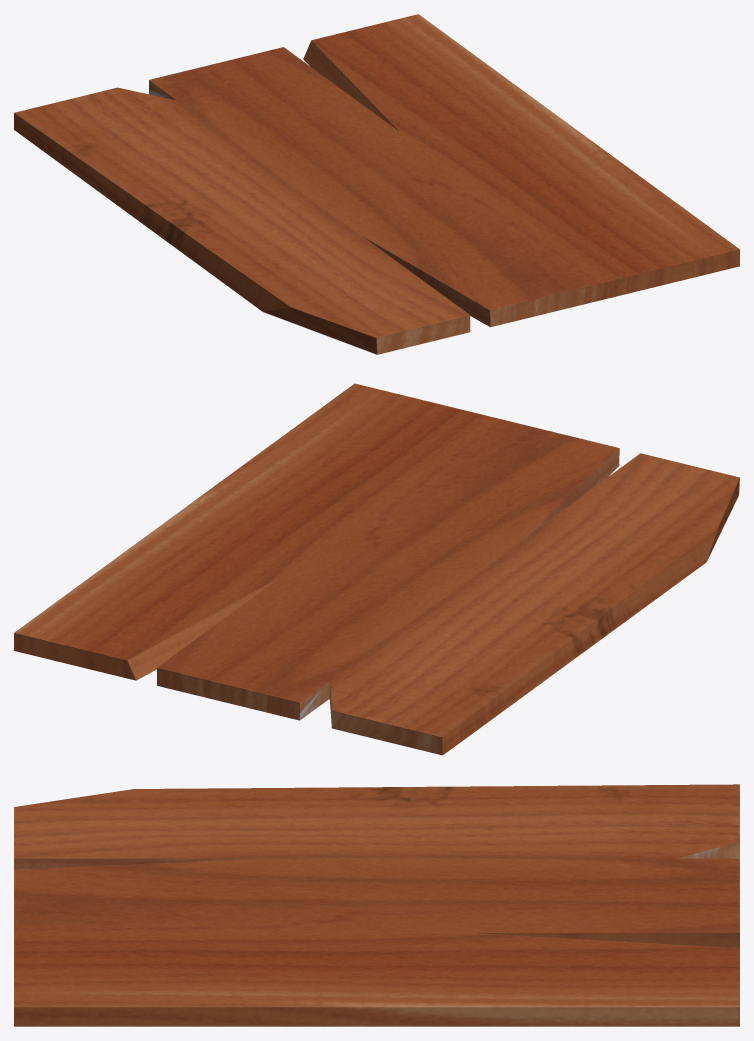
The model's file is NNJ0510013.fbx.
3 renders of one model, top to bottom at view 1: azimuth 30°, elevation 25°; view 2: azimuth 150°, elevation 25°; view 3: azimuth 270°, elevation 25°, orthographic. The views are drawn at different scales.
Parts seen in each view (by area): view 1: smNNJ0510013; view 2: smNNJ0510013; view 3: smNNJ0510013.
Boxes of the visible parts, box(x1,y1,x2,y2) form: smNNJ0510013: box(14, 14, 739, 354); smNNJ0510013: box(14, 383, 739, 755); smNNJ0510013: box(14, 784, 739, 1026).
Size of the model in its own units: 126 by 5.05 by 173.
1 material, 1 textured.
